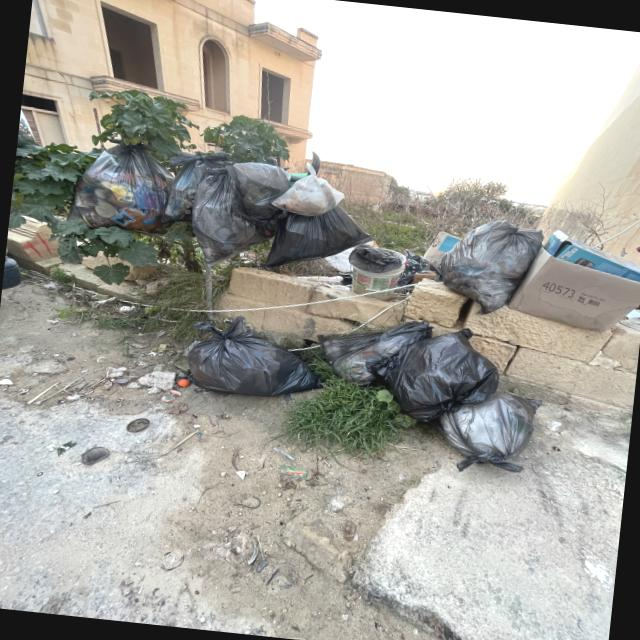black_bag: (380, 318, 506, 425), (181, 310, 324, 402), (431, 209, 544, 320), (425, 382, 548, 480), (62, 136, 180, 237), (193, 156, 292, 272), (310, 308, 436, 392), (265, 210, 364, 278), (162, 156, 210, 226)
other_waste: (507, 225, 640, 338)
white_bag: (270, 158, 349, 220)
